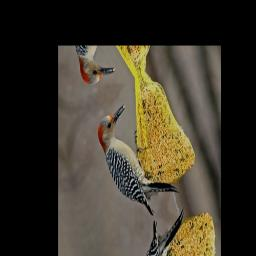Woodpecker: (85, 81, 183, 238)
